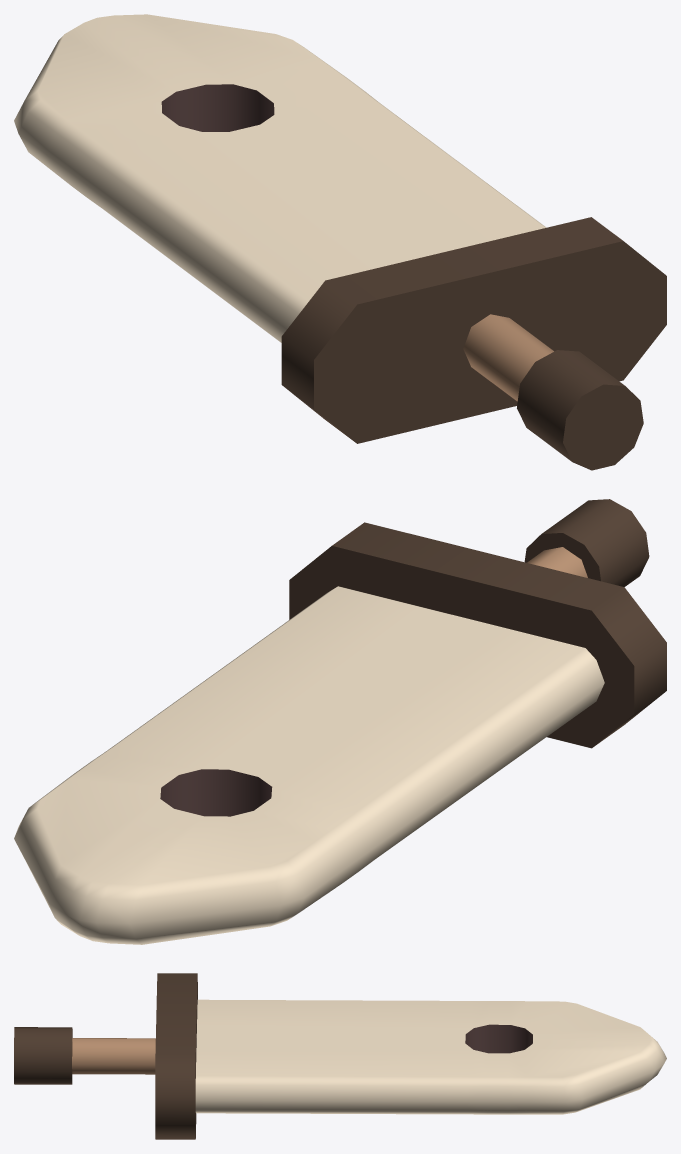
Rendered from mdl_sword_ref.fbx.
The picture shows the model from 3 angles, top to bottom: view 1: azimuth 30°, elevation 25°; view 2: azimuth 150°, elevation 25°; view 3: azimuth 270°, elevation 25°; orthographic projection. The views are drawn at different scales.
Visible parts, largest first — view 1: gros_epee; view 2: gros_epee; view 3: gros_epee.
Boxes of the visible parts, box(x1,y1,x2,y2) form: gros_epee: box(14, 14, 666, 470); gros_epee: box(14, 499, 666, 944); gros_epee: box(14, 973, 666, 1139).
Bounding box in the file's own units: 1.87 × 0.7087 × 4.86.
